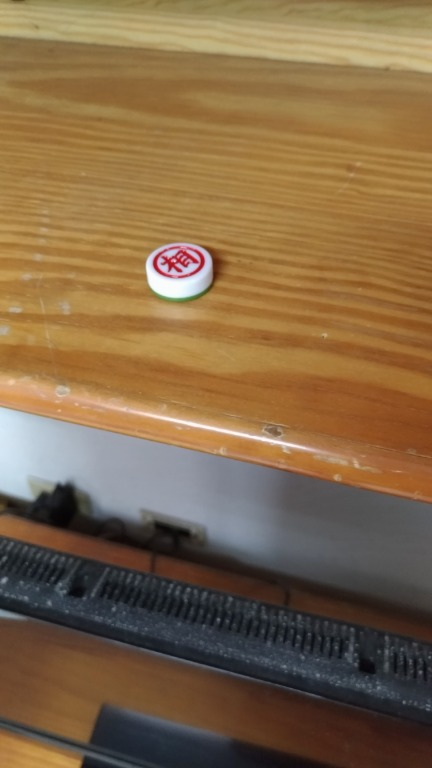r-elephant: (130, 233, 236, 308)
